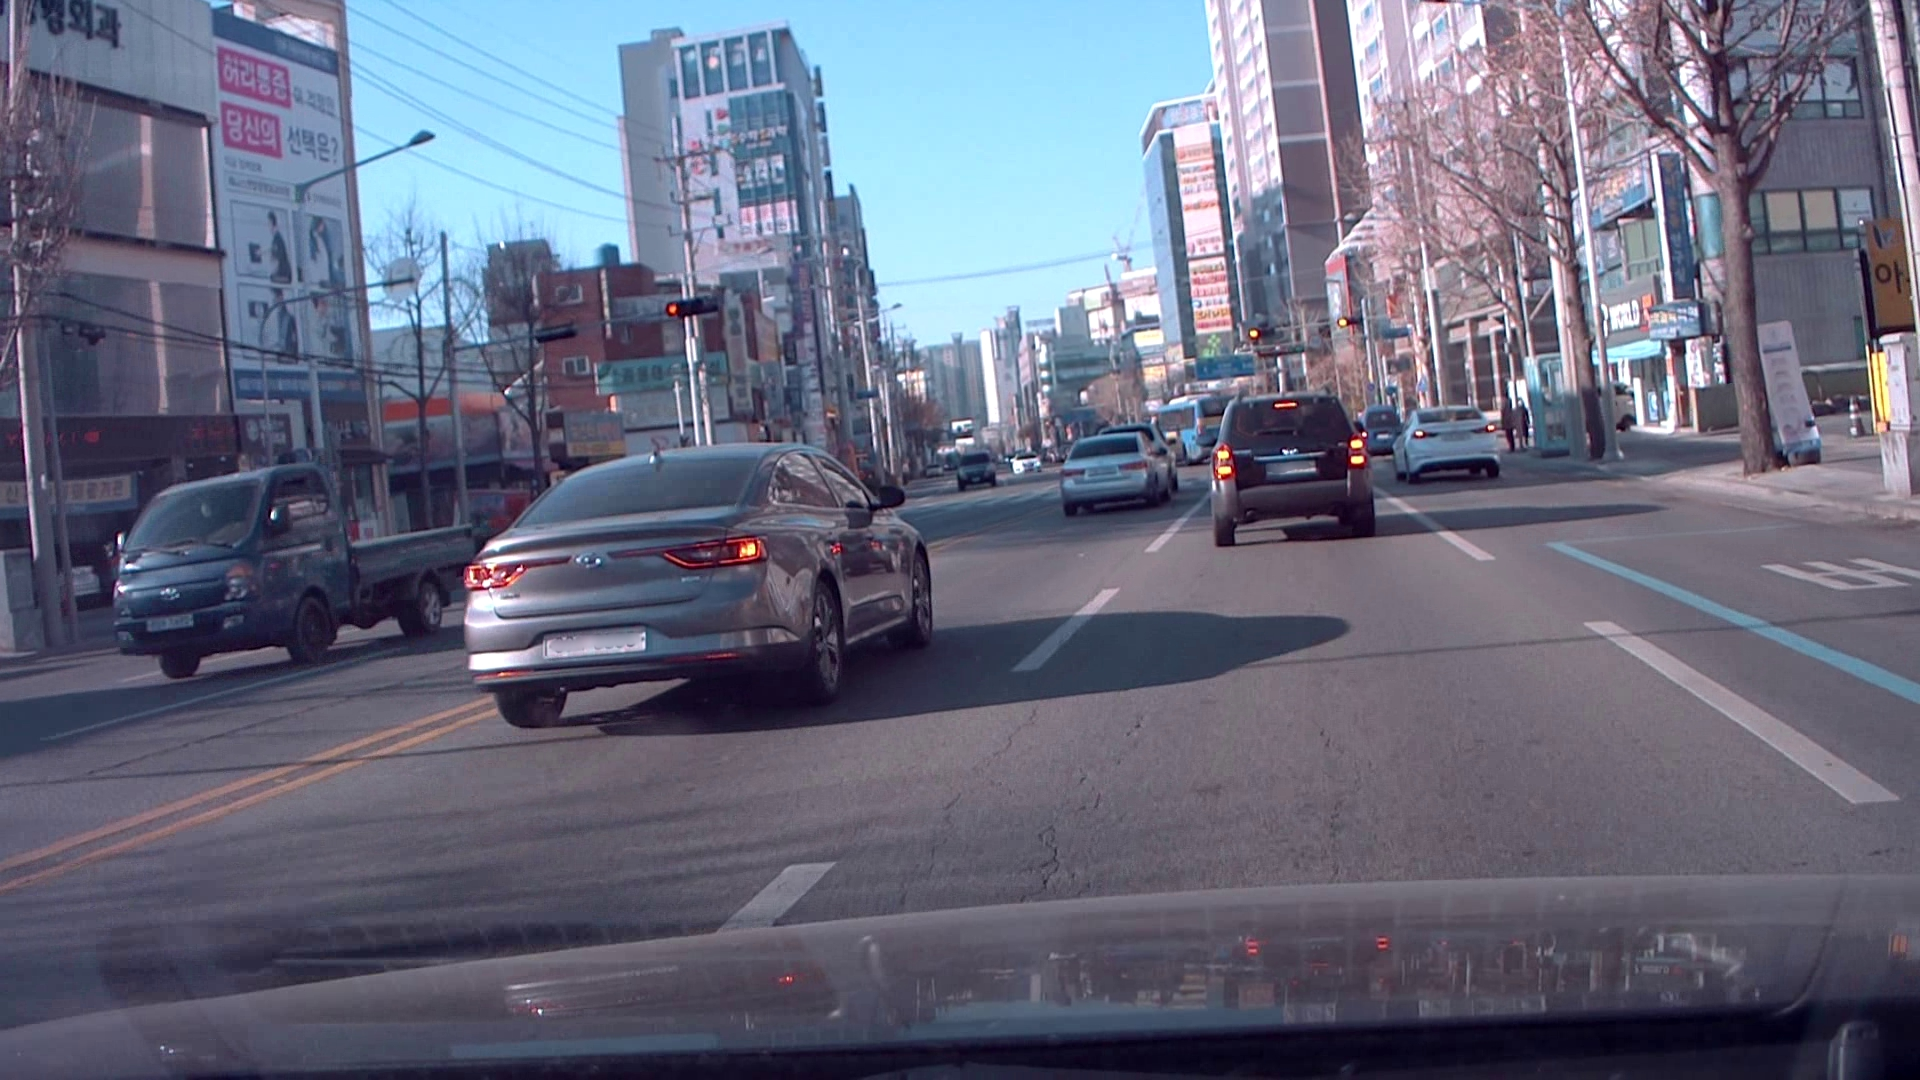trafficLight: (1244, 316, 1366, 340), (662, 293, 717, 322)
